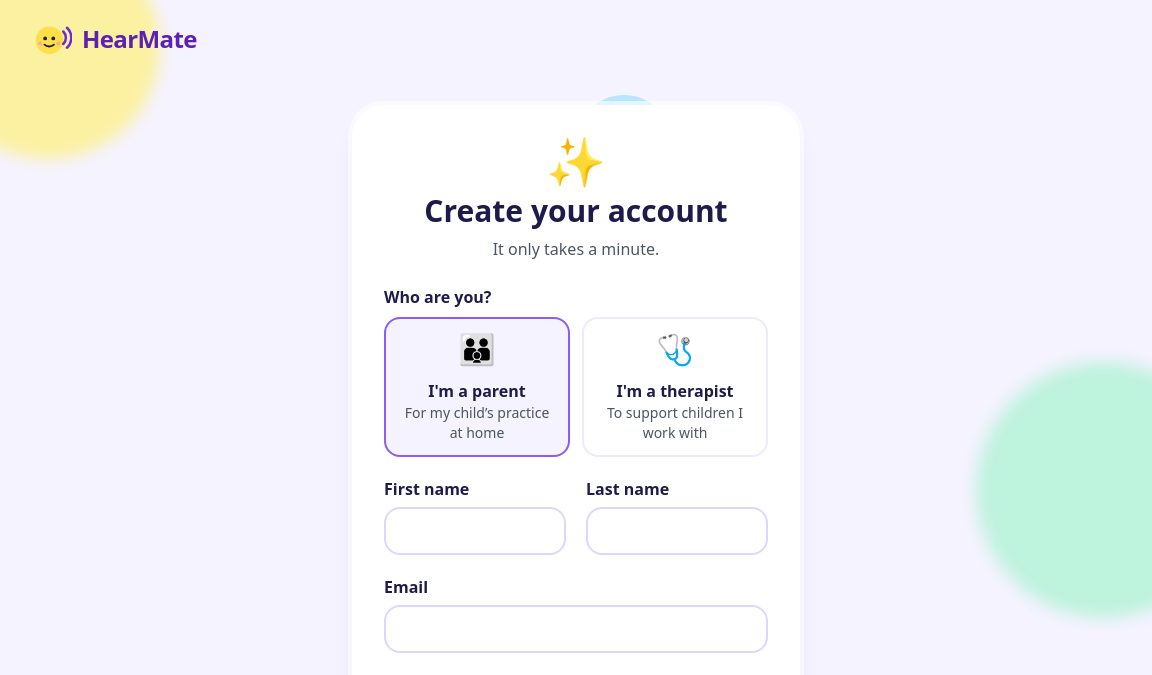
Test: Sign up › sends no therapist details for a parent
The width and height of the screenshot is (1152, 675).
Type "Sara" into the field labelled "First name".
click(475, 531); type("Sara")  # box [384,507,566,555]
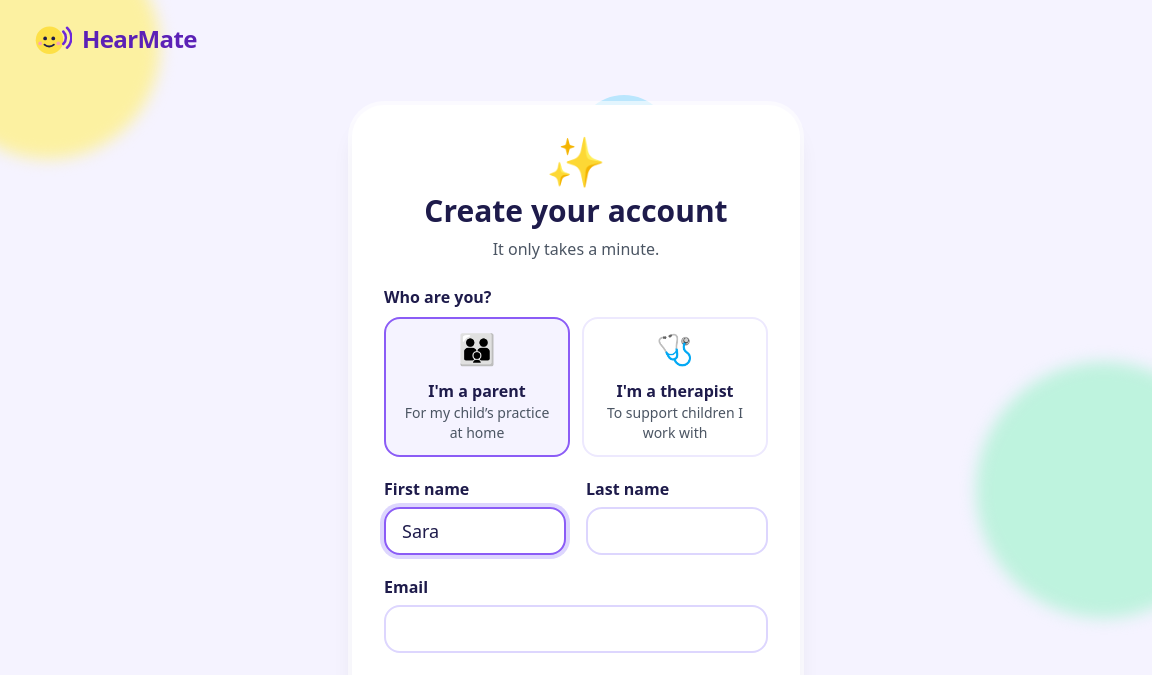
Type "Khan" into the field labelled "Last name".
click(677, 531); type("Khan")  # box [586,507,768,555]
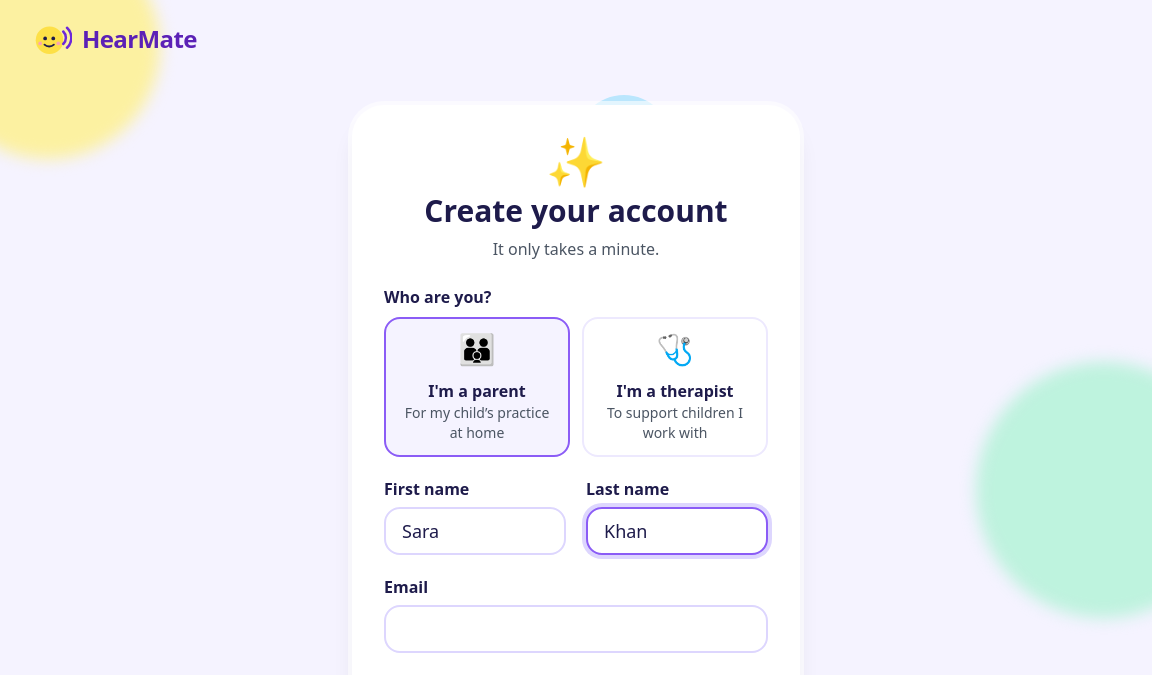
Type "sara@example.com" into the field labelled "Email".
click(576, 629); type("sara@example.com")  # box [384,605,768,653]
(page scrolled)
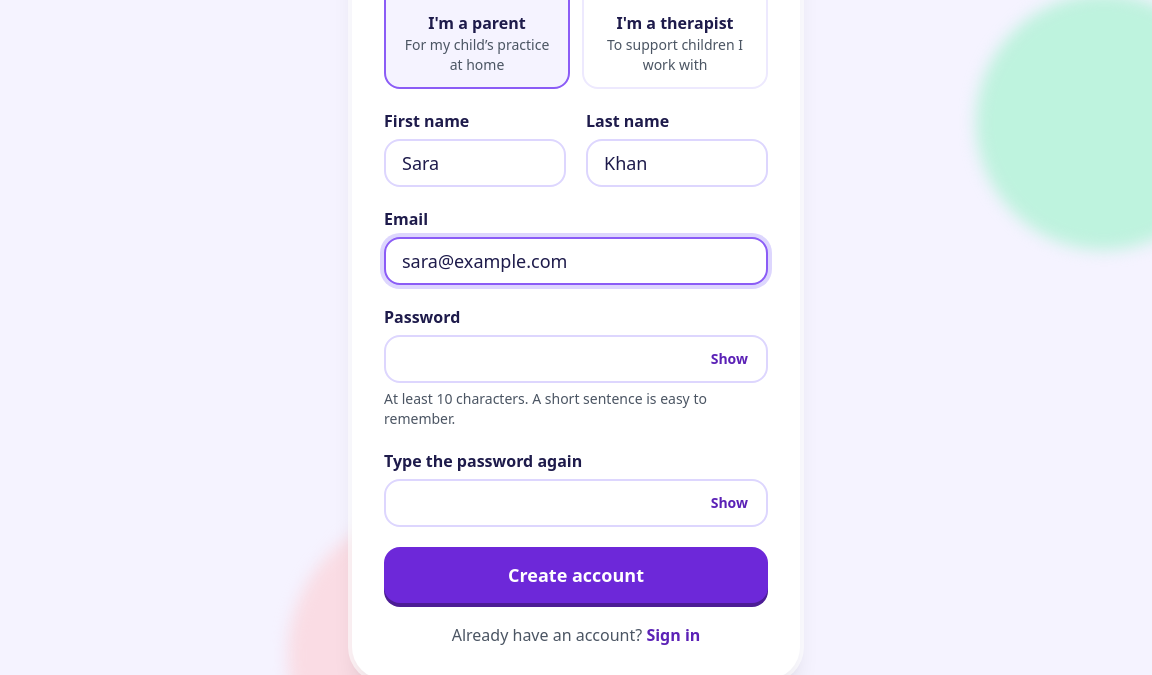
Type "a-long-password" into the password field labelled "Password".
click(576, 359); type("a-long-password")  # box [384,335,768,383]
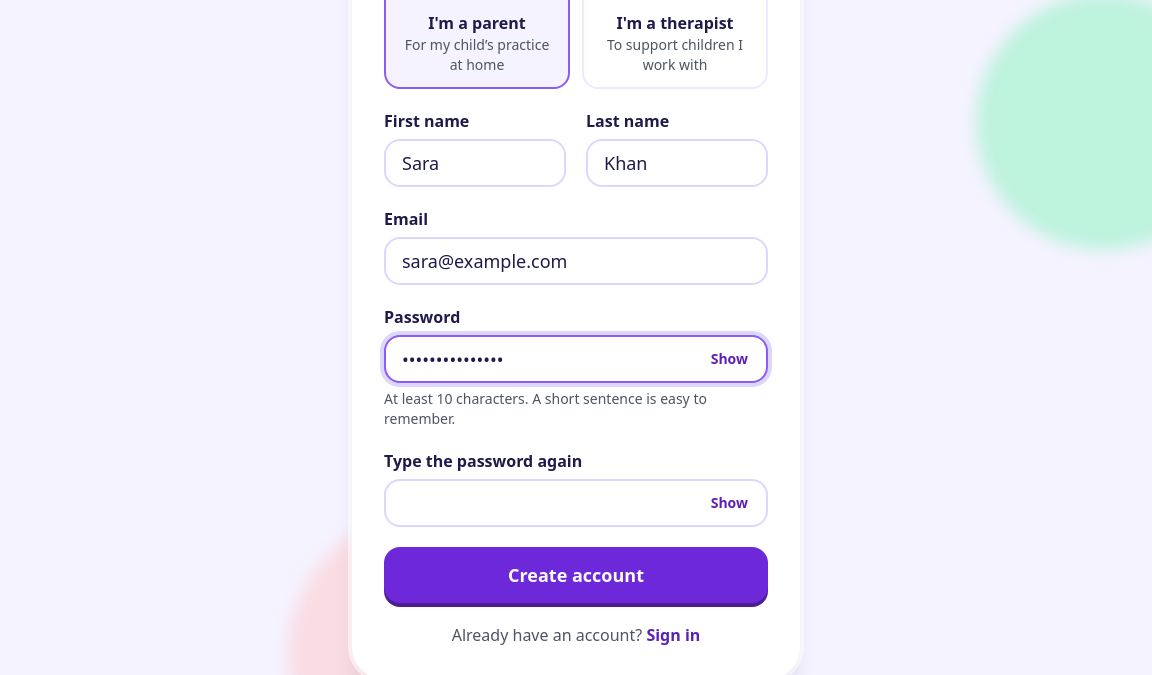
Type "a-long-password" into the password field labelled "Type the password again".
click(576, 503); type("a-long-password")  # box [384,479,768,527]
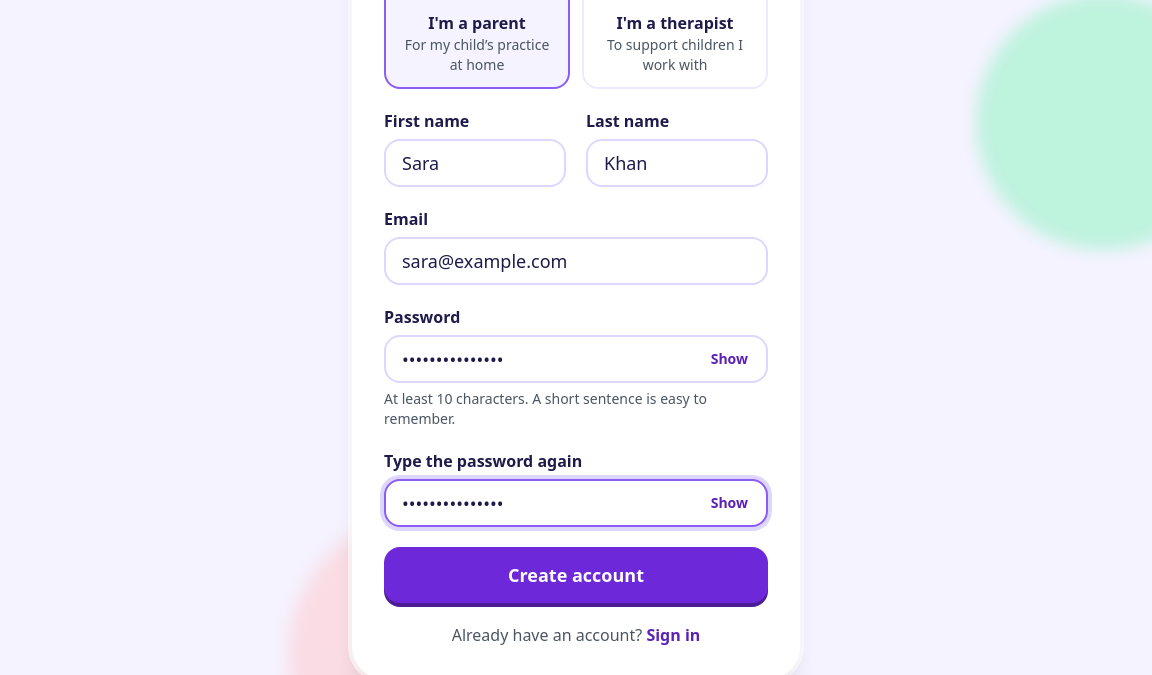
Click the button "Create account".
click(576, 575)  # box [384,547,768,603]
(page scrolled)
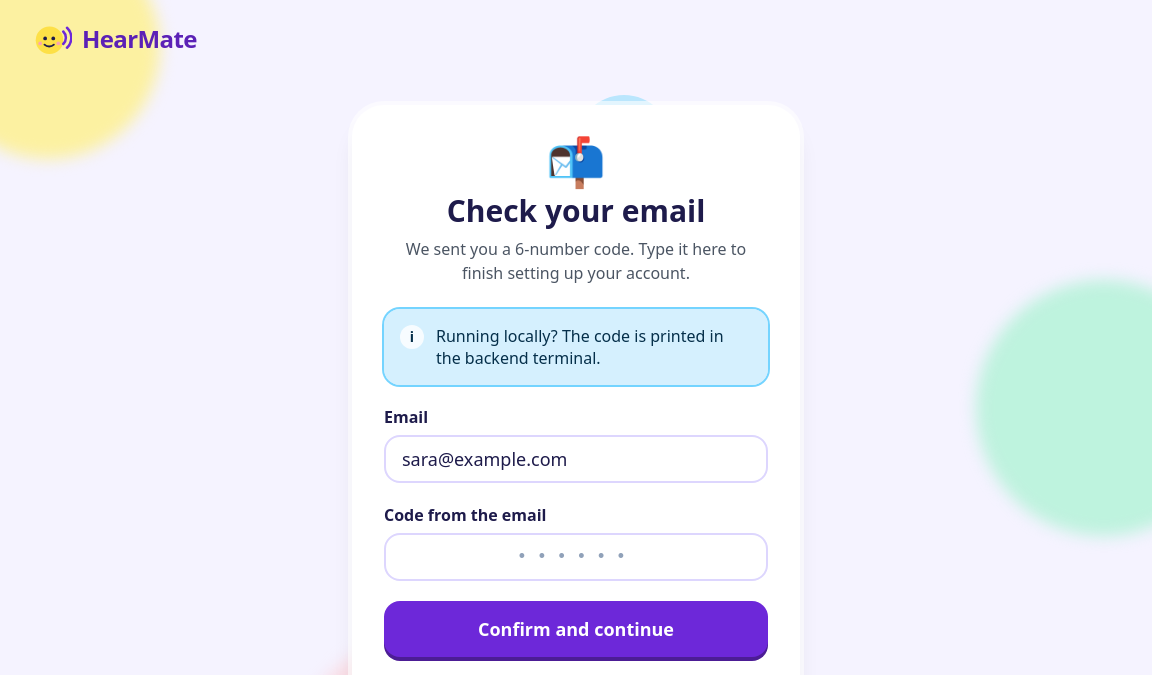
Expected: the heading "Check your email" is shown, [447,193,705,229]
